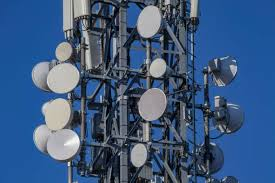ba: (131, 5, 172, 50), (127, 83, 169, 122), (206, 98, 246, 137), (204, 51, 242, 88), (190, 137, 226, 174), (47, 127, 83, 163), (42, 63, 81, 96), (42, 91, 71, 127), (119, 136, 150, 168), (142, 57, 170, 80)
